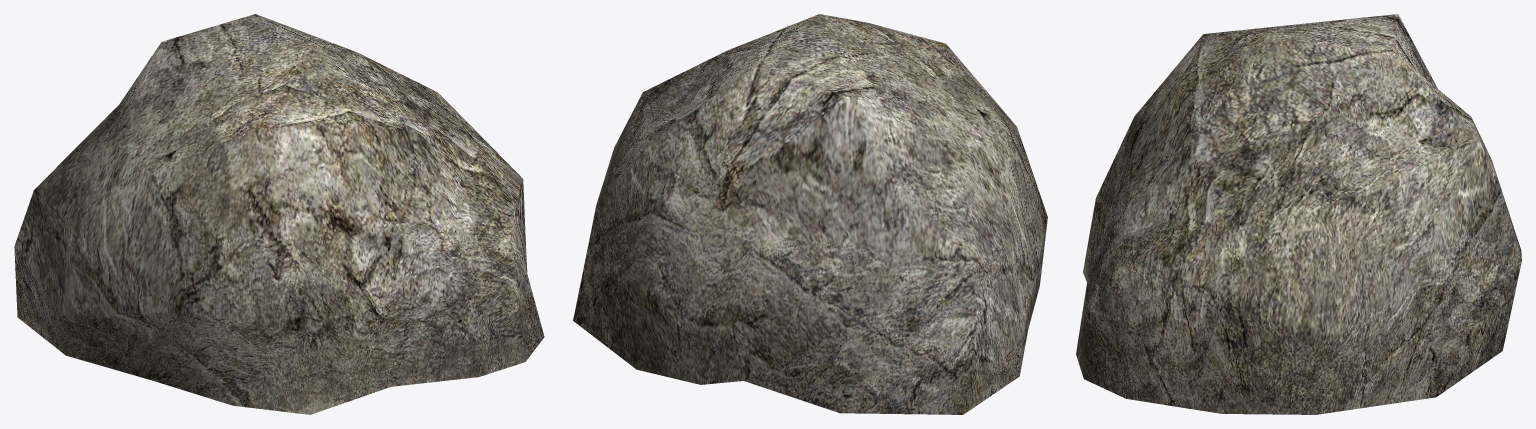
File: general_obj_stone19.fbx
The picture shows the model from 3 angles, left to right: view 1: azimuth 30°, elevation 25°; view 2: azimuth 150°, elevation 25°; view 3: azimuth 270°, elevation 25°; orthographic projection. The views are drawn at different scales.
Parts seen in each view (by area): view 1: Sphere01; view 2: Sphere01; view 3: Sphere01.
Part boxes in pixels (x1,y1,x2,y2): Sphere01: (14,14,544,414); Sphere01: (573,14,1047,414); Sphere01: (1076,14,1521,414).
Bounding box in the file's own units: 7.06 × 4.45 × 6.47.
